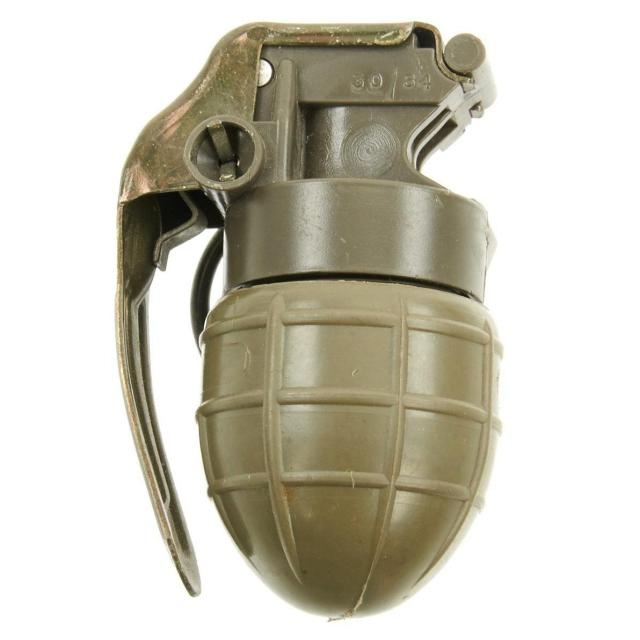grenade: (117, 22, 505, 623)
